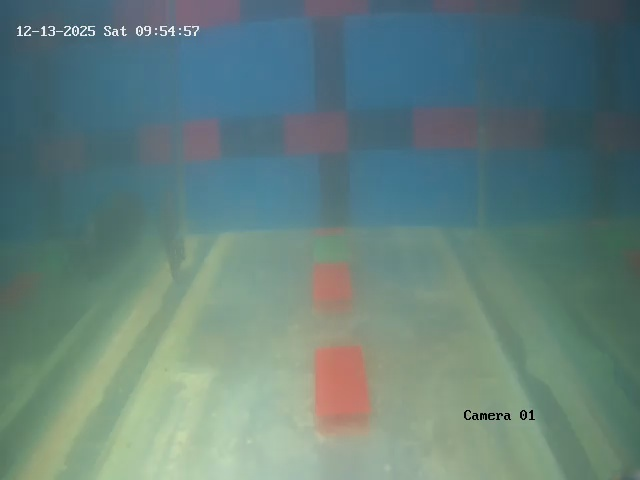fish: (139, 205, 207, 294)
